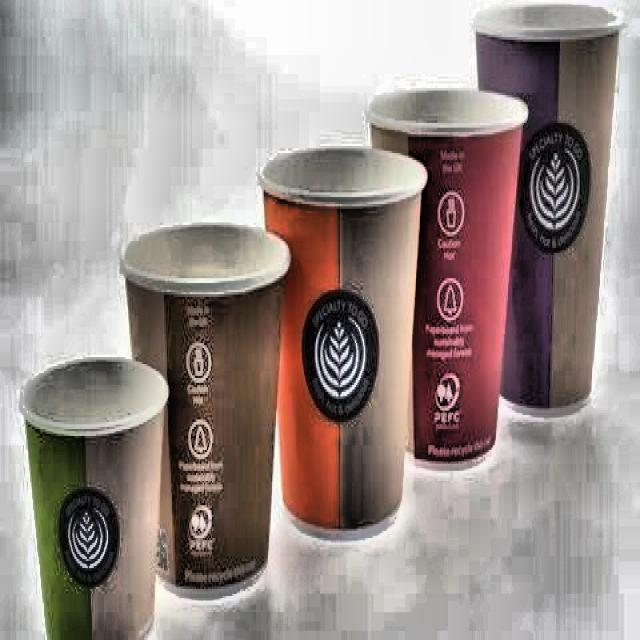Cup: (468, 0, 628, 423), (122, 201, 296, 589), (270, 123, 424, 544), (366, 82, 520, 480), (15, 355, 176, 640)
